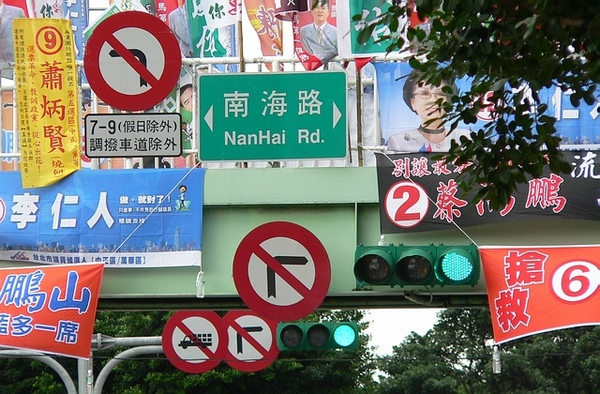No_left_turn: (83, 11, 181, 113)
No_right_turn: (231, 221, 332, 322), (218, 309, 282, 372)
Traffic_light_green: (354, 244, 478, 286), (276, 320, 359, 350)
